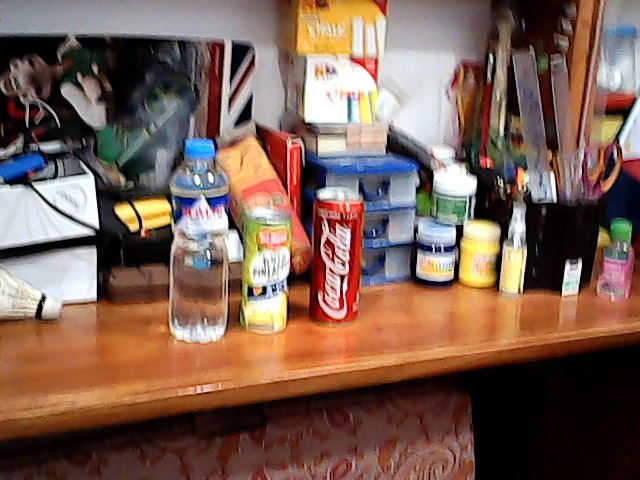Cola: (309, 187, 365, 325)
Pine Juice: (242, 210, 288, 333)
Summit Water: (169, 136, 227, 342)
